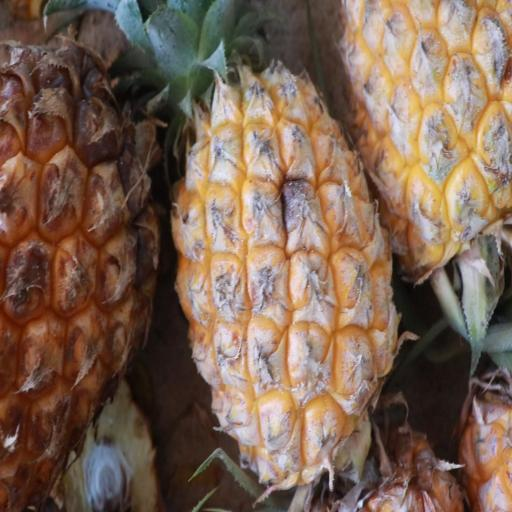Pineapple - v8 v1: (168, 17, 403, 495), (0, 19, 165, 512), (333, 0, 512, 284)
